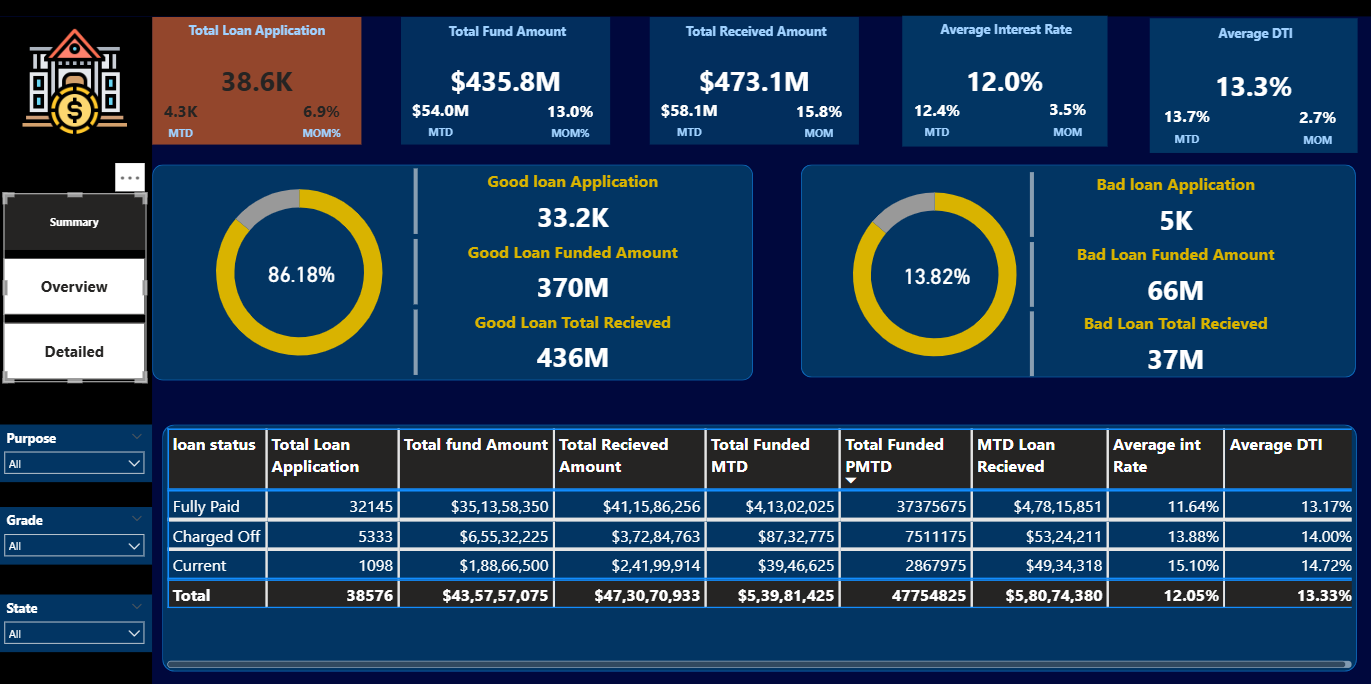

What the dashboard file says about the page in this screenshot:
{"tool":"powerbi","page":{"name":"Summary","canvas":[1700,900],"ordinal":0},"visuals":[{"type":"shape","box":[0,0,1700,73.4],"z":0},{"type":"card","fields":{"Values":["Bank_loan.Total_Loan_Application"]},"box":[193.2,73.9,258.7,157.9],"z":0,"group":"g1"},{"type":"shape","box":[193.8,255.9,742.2,266.9],"z":0,"group":"g6"},{"type":"card","fields":{"Values":["Bank_loan.Total_fund_Amount"]},"box":[499.6,73.7,258.7,157.9],"z":1000,"group":"g2"},{"type":"textbox","box":[193.2,73.9,258.7,33.6],"z":1000,"group":"g1"},{"type":"donutChart","fields":{"Category":["Bank_loan.GoodVsBad"],"Y":["Bank_loan.Total_Loan_Application"]},"box":[205.7,255.9,338.9,266.9],"z":1000,"group":"g6"},{"type":"shape","box":[994.4,255.9,685.5,263.2],"z":1000},{"type":"shape","box":[0,73.4,193.2,826.8],"z":2000},{"type":"card","fields":{"Values":["Bank_loan.Total_Recieved_Amount"]},"box":[807.2,73.7,258.7,157.9],"z":2000,"group":"g4"},{"type":"card","fields":{"Values":["Bank_loan.MTD_Loan_Application"]},"box":[193.2,168,70.6,63.8],"z":2000,"group":"g1"},{"type":"card","fields":{"Values":["Bank_loan.Good_loan_%"]},"box":[301.2,357.7,152.7,65.3],"z":2000,"group":"g6"},{"type":"card","fields":{"Values":["Bank_loan.Average_DTI"]},"box":[1425.9,75,256.9,166.5],"z":3000,"group":"g3"},{"type":"card","fields":{"Values":["Bank_loan.MOM%"]},"box":[354.5,168,97.4,63.8],"z":3000,"group":"g1"},{"type":"cardVisual","fields":{"Data":["Bank_loan.Good_loan_application","Bank_loan.Good_loan_Funded_Amount","Bank_loan.Good Loan Total Recieved"]},"box":[511.2,255.9,403.3,266.9],"z":3000,"group":"g6"},{"type":"donutChart","fields":{"Category":["Bank_loan.GoodVsBad"],"Y":["Bank_loan.Total_Loan_Application"]},"box":[1021.3,260.7,278.3,262.8],"z":3000},{"type":"textbox","box":[537,0,707,61.8],"z":4000},{"type":"card","fields":{"Values":["Bank_loan.Average_int_Rate"]},"box":[1119.1,72.6,253.3,161.2],"z":4000,"group":"g5"},{"type":"card","fields":{"Values":["Bank_loan.Bad_loan_%"]},"box":[1099.7,360.9,125.4,64.3],"z":5000},{"type":"group","id":"g1","title":"Group 1","box":[193.2,73.9,258.7,157.9],"z":6000},{"type":"textbox","box":[502.3,75.3,257.1,34.2],"z":6000,"group":"g2"},{"type":"textbox","box":[1428.8,77.3,255.7,34.1],"z":6000,"group":"g3"},{"type":"textbox","box":[809.9,75.3,257.1,34.2],"z":7000,"group":"g4"},{"type":"card","fields":{"Values":["Bank_loan.MTD_Int_Rate"]},"box":[1114.7,166.7,95.3,64.7],"z":7000,"group":"g5"},{"type":"card","fields":{"Values":["Bank_loan.MTD_DTI"]},"box":[1423.7,174.4,95.3,64.7],"z":7000,"group":"g3"},{"type":"cardVisual","fields":{"Data":["Bank_loan.Bad loan Application","Bank_loan.Bad Loan Funded Amount","Bank_loan.Bad Loan Total Recieved"]},"box":[1272.5,261,370.6,262.5],"z":7000},{"type":"group","id":"g2","title":"Group 2","box":[499.6,73.7,259.8,158],"z":8000},{"type":"card","fields":{"Values":["Bank_loan.Total_funded_MTD"]},"box":[500.5,167,95.3,64.7],"z":8000,"group":"g2"},{"type":"card","fields":{"Values":["Bank_loan.MOM_int_rate%"]},"box":[1275.1,167.5,97.4,63.8],"z":8000,"group":"g5"},{"type":"card","fields":{"Values":["Bank_loan.MOM_DTE_%"]},"box":[1584.1,175.2,97.4,63.8],"z":8000,"group":"g3"},{"type":"group","id":"g3","title":"Group 5","box":[1423.7,75,260.8,166.5],"z":9000},{"type":"card","fields":{"Values":["Bank_loan.MTD_Loan_Recieved"]},"box":[808.1,167,95.3,64.7],"z":9000,"group":"g4"},{"type":"group","id":"g4","title":"Group 3","box":[807.2,73.7,259.8,158],"z":10000},{"type":"card","fields":{"Values":["Bank_loan.Funded_MOM%"]},"box":[660.9,167.8,97.4,63.8],"z":10000,"group":"g2"},{"type":"group","id":"g5","title":"Group 4","box":[1114.7,72.6,261.3,161.2],"z":11000},{"type":"card","fields":{"Values":["Bank_loan.MOM_Recieved_amount%"]},"box":[968.5,167.8,97.4,63.8],"z":11000,"group":"g4"},{"type":"textbox","box":[1119.1,72.6,256.9,33.7],"z":11001,"group":"g5"},{"type":"group","id":"g6","title":"Group 6","box":[193.8,255.9,742.2,266.9],"z":12000},{"type":"shape","box":[204.8,577.6,1475.9,305.2],"z":13000},{"type":"tableEx","fields":{"Values":["Bank_loan.loan_status","Bank_loan.Total_Loan_Application","Bank_loan.Total_fund_Amount","Bank_loan.Total_Recieved_Amount","Bank_loan.Total_funded_MTD","Bank_loan.TOtal_funded_PMTD","Bank_loan.MTD_Loan_Recieved","Bank_loan.Average_int_Rate","Bank_loan.Average_DTI"]},"box":[205.4,577.6,1474.8,305.8],"z":14000},{"type":"slicer","fields":{"Values":["Bank_loan.purpose"]},"box":[0,577.6,193.2,71.5],"z":15000},{"type":"slicer","fields":{"Values":["Bank_loan.grade"]},"box":[0,680,193.2,71.5],"z":16000},{"type":"slicer","fields":{"Values":["Bank_loan.address_state"]},"box":[0,788.2,193.2,71.5],"z":17000},{"type":"pageNavigator","box":[9.1,292.5,175.5,232.2],"z":18000},{"type":"image","box":[9.3,77.2,176.1,152.9],"z":18001}]}

Visuals, with their boxes on the page's 1700x900 design canvas (x1, y1, x2, y2). These are canvas units, not pixel positions in the 1371x684 screenshot, which may show the page scaled, cropped or inside an application window:
shape: left=0, top=0, right=1700, bottom=73
card - Bank_loan.Total_Loan_Application: left=193, top=74, right=452, bottom=232
shape: left=194, top=256, right=936, bottom=523
card - Bank_loan.Total_fund_Amount: left=500, top=74, right=758, bottom=232
textbox: left=193, top=74, right=452, bottom=108
donutChart - Bank_loan.GoodVsBad x Bank_loan.Total_Loan_Application: left=206, top=256, right=545, bottom=523
shape: left=994, top=256, right=1680, bottom=519
shape: left=0, top=73, right=193, bottom=900
card - Bank_loan.Total_Recieved_Amount: left=807, top=74, right=1066, bottom=232
card - Bank_loan.MTD_Loan_Application: left=193, top=168, right=264, bottom=232
card - Bank_loan.Good_loan_%: left=301, top=358, right=454, bottom=423
card - Bank_loan.Average_DTI: left=1426, top=75, right=1683, bottom=242
card - Bank_loan.MOM%: left=354, top=168, right=452, bottom=232
cardVisual - Bank_loan.Good_loan_application x Bank_loan.Good_loan_Funded_Amount: left=511, top=256, right=914, bottom=523
donutChart - Bank_loan.GoodVsBad x Bank_loan.Total_Loan_Application: left=1021, top=261, right=1300, bottom=524
textbox: left=537, top=0, right=1244, bottom=62
card - Bank_loan.Average_int_Rate: left=1119, top=73, right=1372, bottom=234
card - Bank_loan.Bad_loan_%: left=1100, top=361, right=1225, bottom=425
"Group 1" group: left=193, top=74, right=452, bottom=232
textbox: left=502, top=75, right=759, bottom=110
textbox: left=1429, top=77, right=1684, bottom=111
textbox: left=810, top=75, right=1067, bottom=110
card - Bank_loan.MTD_Int_Rate: left=1115, top=167, right=1210, bottom=231
card - Bank_loan.MTD_DTI: left=1424, top=174, right=1519, bottom=239
cardVisual - Bank_loan.Bad loan Application x Bank_loan.Bad Loan Funded Amount: left=1272, top=261, right=1643, bottom=524
"Group 2" group: left=500, top=74, right=759, bottom=232
card - Bank_loan.Total_funded_MTD: left=500, top=167, right=596, bottom=232
card - Bank_loan.MOM_int_rate%: left=1275, top=168, right=1372, bottom=231
card - Bank_loan.MOM_DTE_%: left=1584, top=175, right=1682, bottom=239
"Group 5" group: left=1424, top=75, right=1684, bottom=242
card - Bank_loan.MTD_Loan_Recieved: left=808, top=167, right=903, bottom=232
"Group 3" group: left=807, top=74, right=1067, bottom=232
card - Bank_loan.Funded_MOM%: left=661, top=168, right=758, bottom=232
"Group 4" group: left=1115, top=73, right=1376, bottom=234
card - Bank_loan.MOM_Recieved_amount%: left=968, top=168, right=1066, bottom=232
textbox: left=1119, top=73, right=1376, bottom=106
"Group 6" group: left=194, top=256, right=936, bottom=523
shape: left=205, top=578, right=1681, bottom=883
tableEx - Bank_loan.loan_status x Bank_loan.Total_Loan_Application: left=205, top=578, right=1680, bottom=883
slicer - Bank_loan.purpose: left=0, top=578, right=193, bottom=649
slicer - Bank_loan.grade: left=0, top=680, right=193, bottom=752
slicer - Bank_loan.address_state: left=0, top=788, right=193, bottom=860
pageNavigator: left=9, top=292, right=185, bottom=525
image: left=9, top=77, right=185, bottom=230
